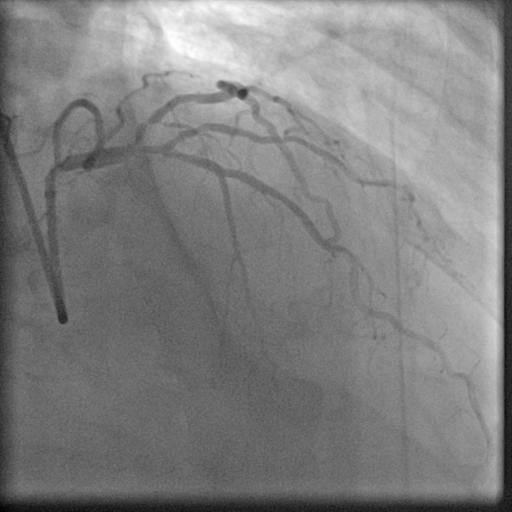Stenosis: (135, 110, 155, 136)
